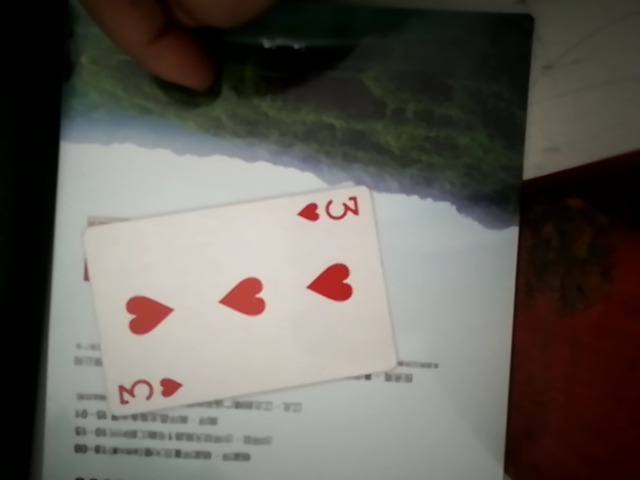hx 3: (77, 181, 395, 415)
